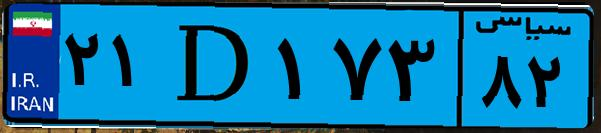1: (270, 28, 330, 110), (110, 28, 158, 98)
2: (57, 26, 110, 100), (525, 38, 570, 115)
3: (385, 28, 445, 110)
7: (330, 28, 385, 110)
8: (475, 38, 525, 113)
D: (158, 12, 270, 120)
